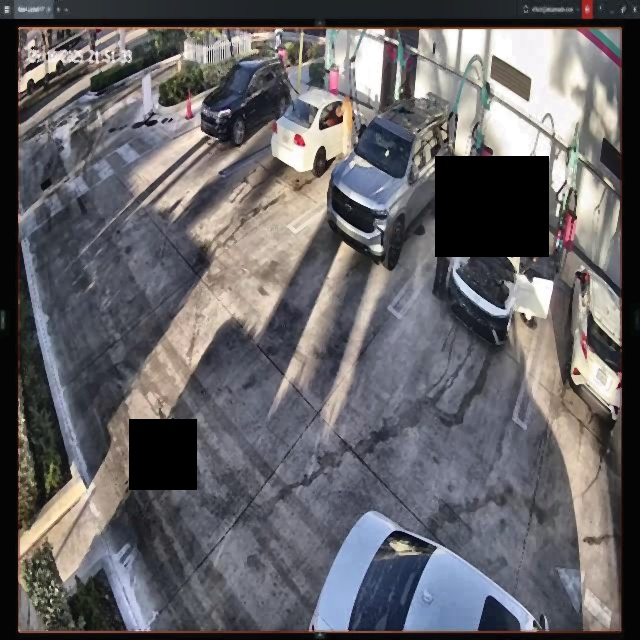Car: (326, 98, 453, 259), (442, 177, 550, 345), (272, 90, 367, 177), (199, 56, 291, 145)
